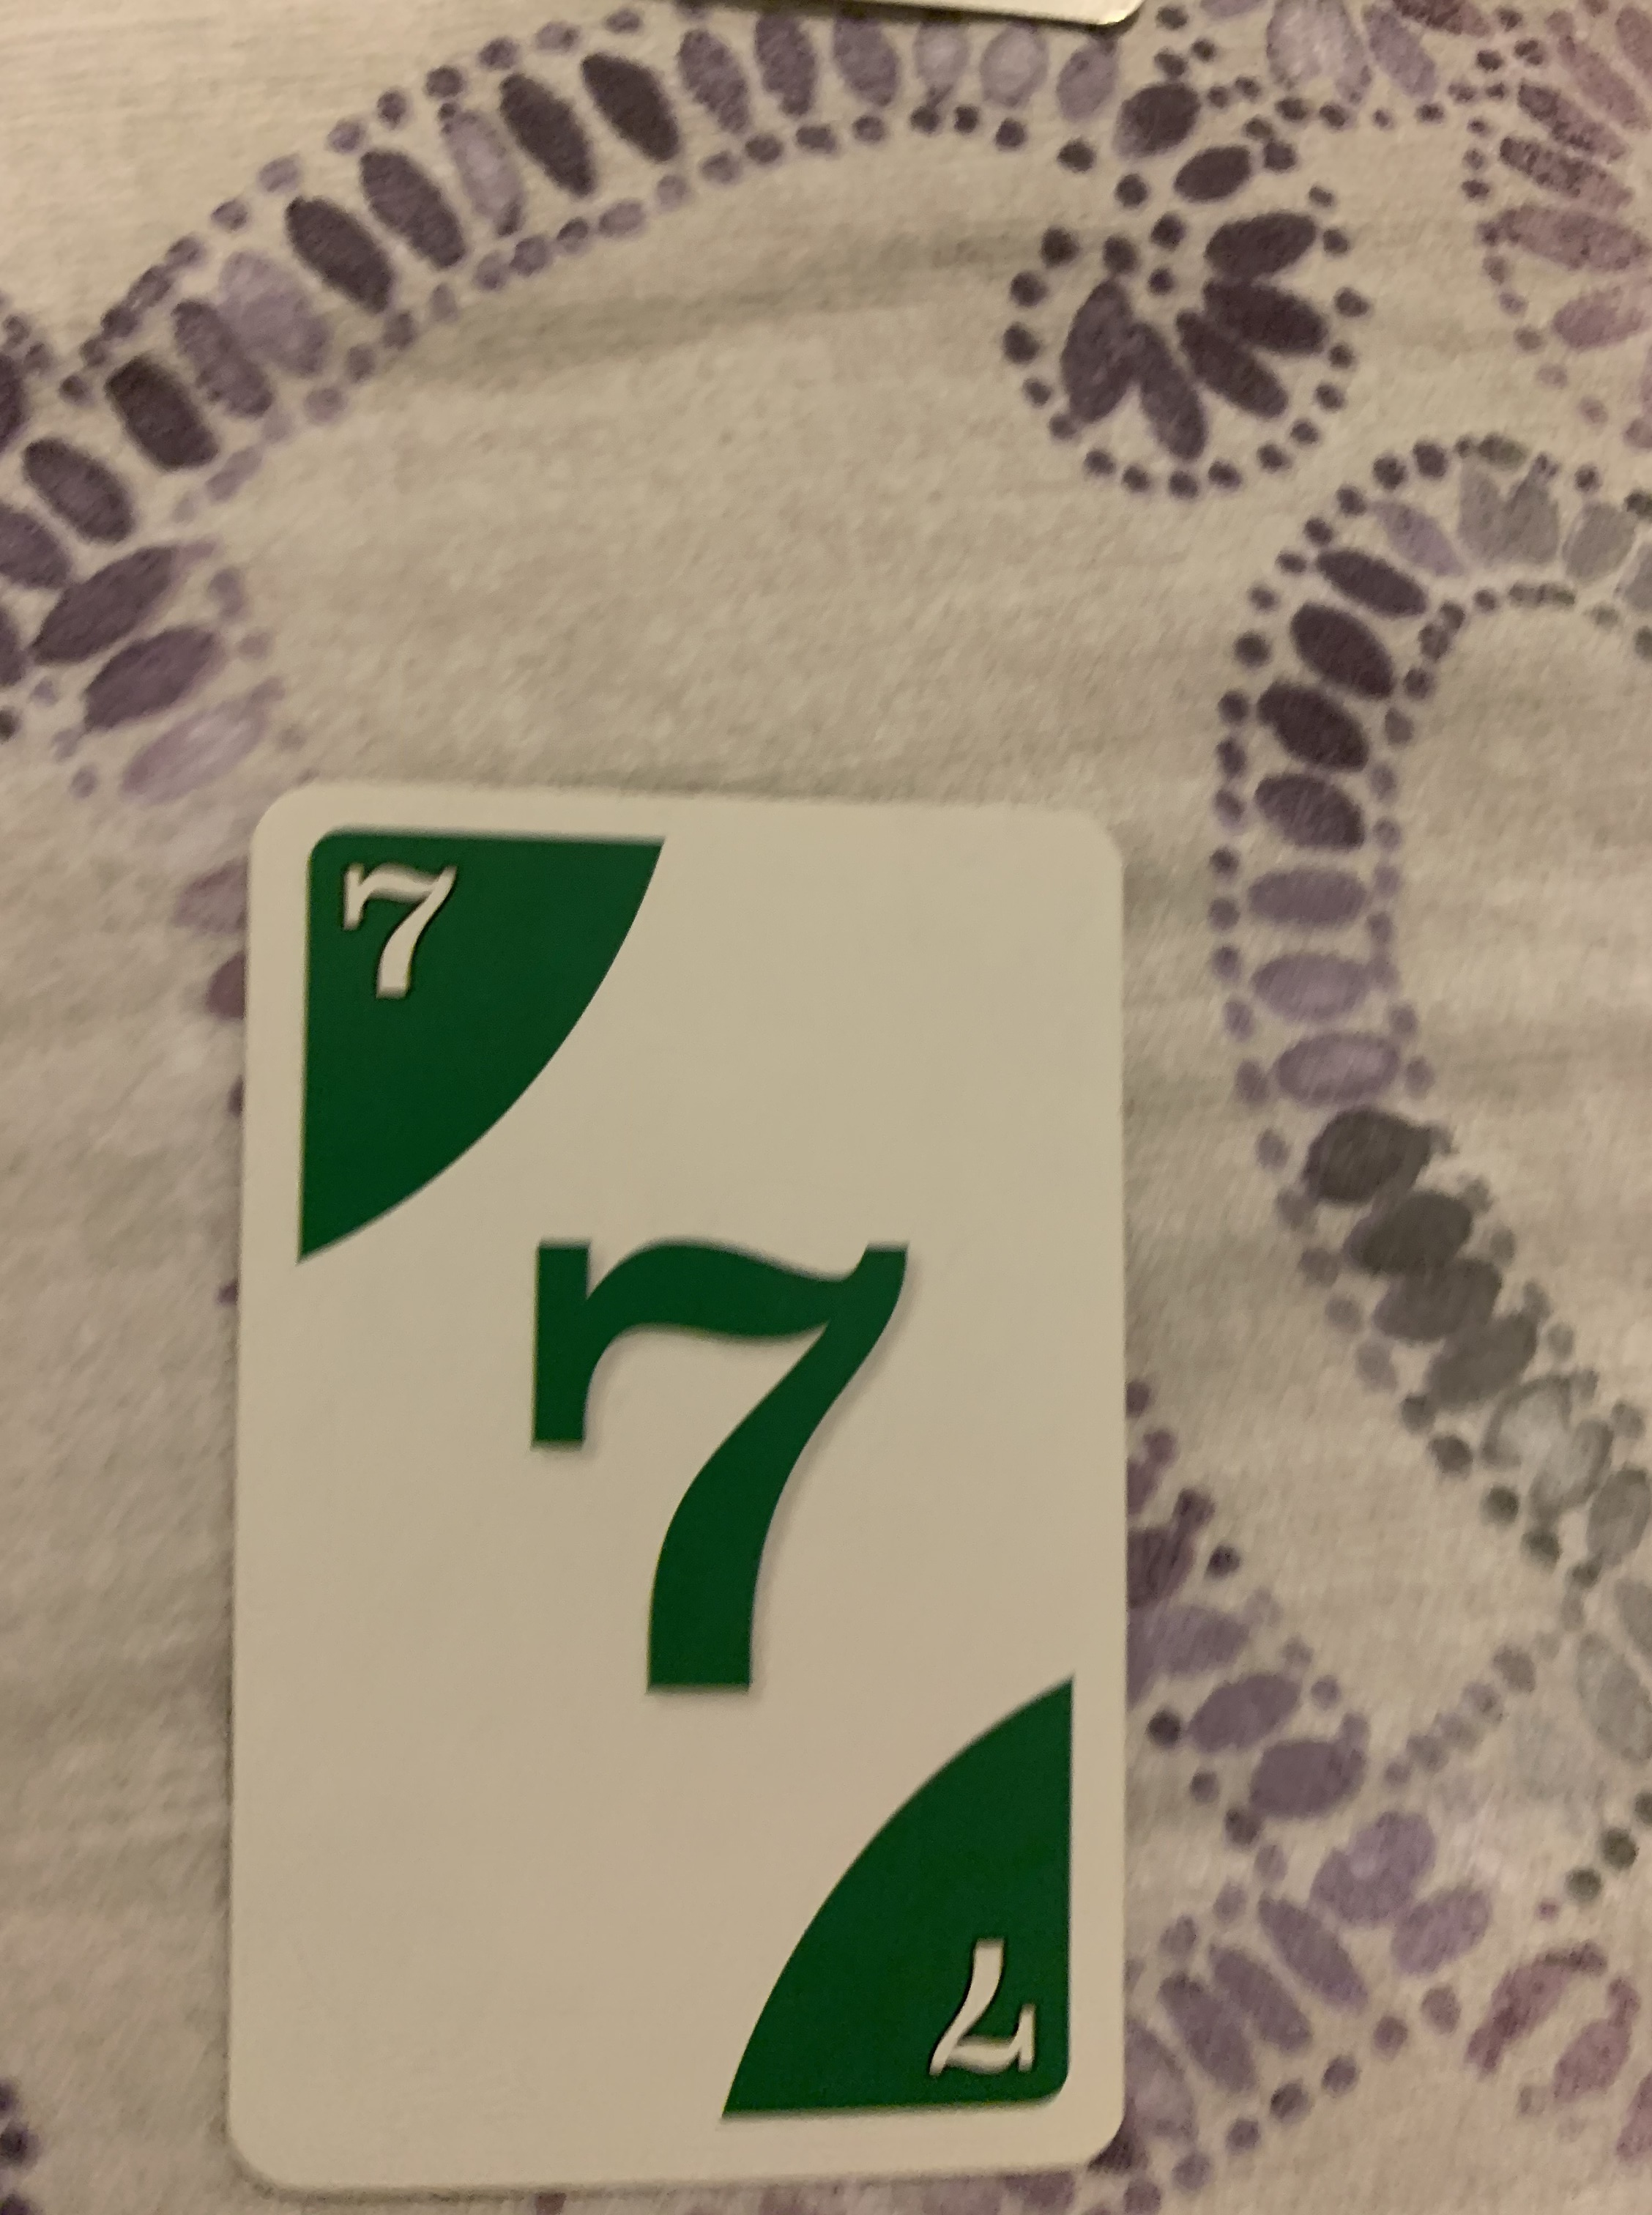seven: (226, 772, 1137, 2196)
